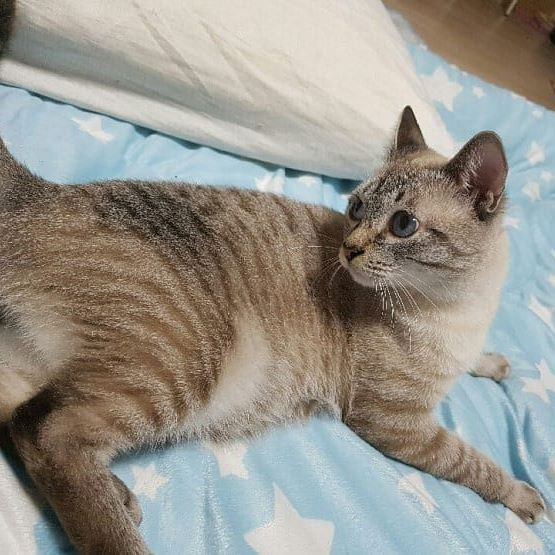cat: (335, 107, 514, 301)
